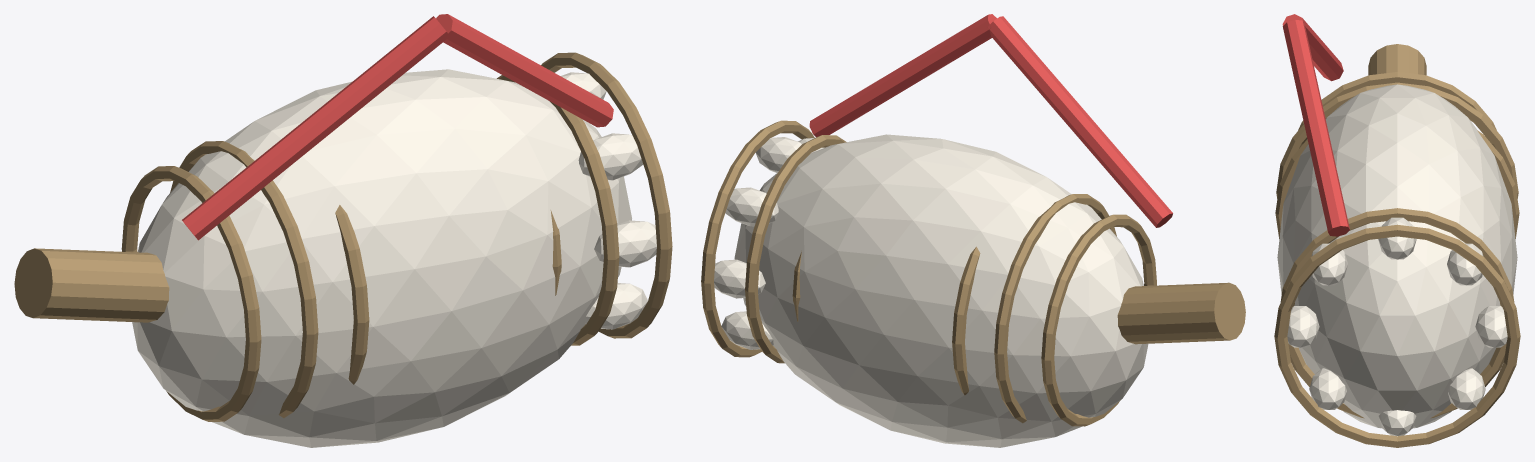
Rendered from gakki_horagai.glb.
3 views of the same model, side by side, from view 1: azimuth 30°, elevation 25°; view 2: azimuth 150°, elevation 25°; view 3: azimuth 270°, elevation 25° (orthographic). The views are drawn at different scales.
Parts seen in each view (by area): view 1: Horagai spiral giant shell body, Horagai copper sound mouthpiece, Horagai braided carrying cord_00, Concentric trumpet spiral ridge, Concentric trumpet spiral ridge.008, Horagai braided carrying cord_01, Concentric trumpet spiral ridge.001, Concentric trumpet spiral ridge.007, Concentric trumpet spiral ridge.002, Natural scalloped shell lip.004, Natural scalloped shell lip.003, Natural scalloped shell lip.005; view 2: Horagai spiral giant shell body, Horagai copper sound mouthpiece, Horagai braided carrying cord_00, Horagai braided carrying cord_01, Concentric trumpet spiral ridge, Concentric trumpet spiral ridge.008, Concentric trumpet spiral ridge.001, Concentric trumpet spiral ridge.007, Concentric trumpet spiral ridge.002, Natural scalloped shell lip, Natural scalloped shell lip.001, Natural scalloped shell lip.002 (+1 smaller); view 3: Horagai spiral giant shell body, Concentric trumpet spiral ridge.008, Horagai braided carrying cord_01, Concentric trumpet spiral ridge.007, Concentric trumpet spiral ridge.001, Concentric trumpet spiral ridge, Concentric trumpet spiral ridge.002, Horagai copper sound mouthpiece, Natural scalloped shell lip.005, Natural scalloped shell lip.007, Horagai braided carrying cord_00, Natural scalloped shell lip (+5 smaller).
Part boxes in pixels (x1,y1,x2,y2): Horagai spiral giant shell body: (132,69,631,447); Horagai copper sound mouthpiece: (14,248,169,322); Horagai braided carrying cord_00: (182,16,447,240); Concentric trumpet spiral ridge: (121,166,261,421); Concentric trumpet spiral ridge.008: (541,52,672,338); Horagai braided carrying cord_01: (436,14,613,127); Concentric trumpet spiral ridge.001: (170,141,318,417); Concentric trumpet spiral ridge.007: (497,75,619,345); Concentric trumpet spiral ridge.002: (335,205,369,384); Natural scalloped shell lip.004: (594,220,656,267); Natural scalloped shell lip.003: (578,133,643,180); Natural scalloped shell lip.005: (585,283,647,329); Horagai spiral giant shell body: (734,134,1148,447); Horagai copper sound mouthpiece: (1117,282,1245,344); Horagai braided carrying cord_00: (987,16,1172,227); Horagai braided carrying cord_01: (809,14,996,136); Concentric trumpet spiral ridge: (1041,214,1156,426); Concentric trumpet spiral ridge.008: (701,120,814,357); Concentric trumpet spiral ridge.001: (994,194,1116,423); Concentric trumpet spiral ridge.007: (745,135,846,363); Concentric trumpet spiral ridge.002: (952,246,980,395); Natural scalloped shell lip: (714,259,765,298); Natural scalloped shell lip.001: (725,187,778,226); Natural scalloped shell lip.002: (755,137,810,173); Horagai spiral giant shell body: (1277,84,1517,428); Concentric trumpet spiral ridge.008: (1274,224,1520,447); Horagai braided carrying cord_01: (1282,20,1349,236); Concentric trumpet spiral ridge.007: (1280,208,1514,418); Concentric trumpet spiral ridge.001: (1276,82,1518,198); Concentric trumpet spiral ridge: (1298,72,1496,142); Concentric trumpet spiral ridge.002: (1275,130,1519,238); Horagai copper sound mouthpiece: (1368,44,1426,75); Natural scalloped shell lip.005: (1309,368,1346,409); Natural scalloped shell lip.007: (1448,368,1485,409); Horagai braided carrying cord_00: (1282,14,1343,81); Natural scalloped shell lip: (1475,306,1507,347).
Size of the model in its own units: 1.95 by 1.44 by 0.8347.
